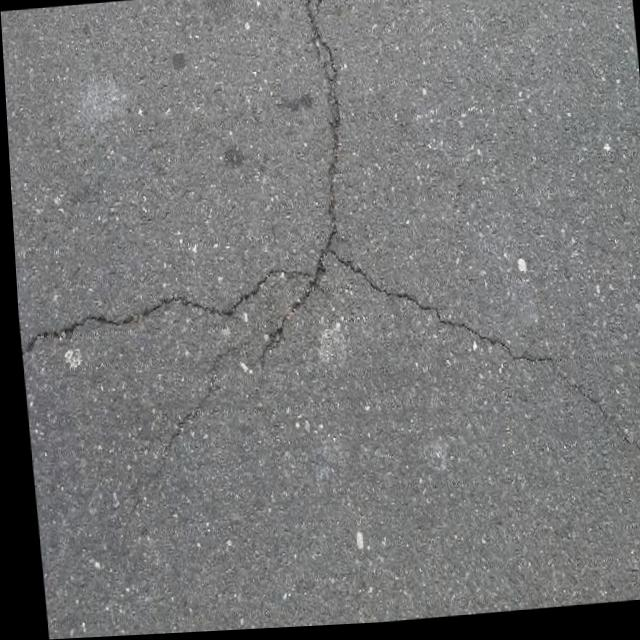Crack: (11, 222, 620, 487), (226, 0, 366, 364)
